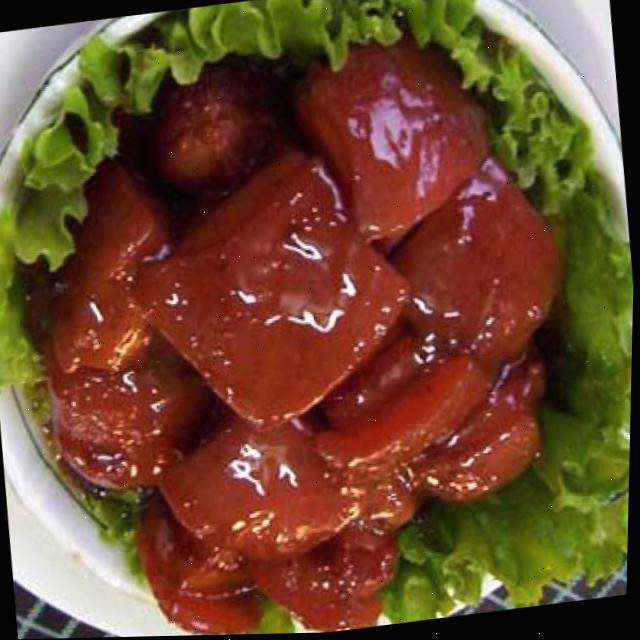牛肉菜式: (21, 69, 550, 616)
